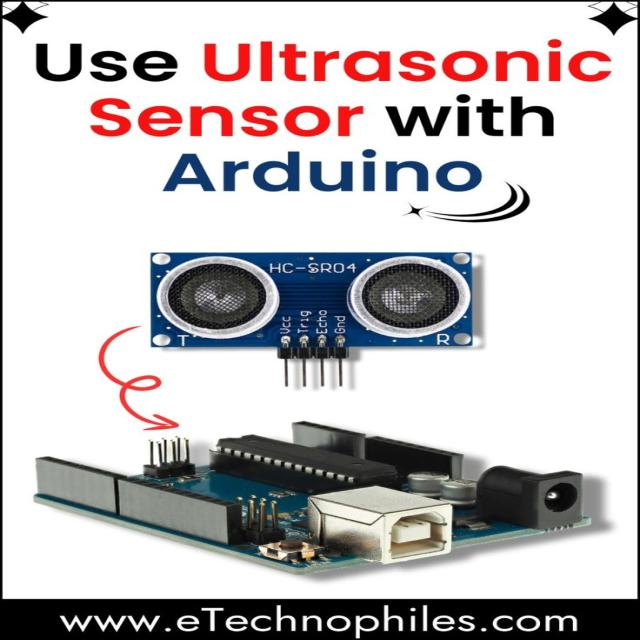Ultrasonic Sensor: (135, 244, 497, 393)
